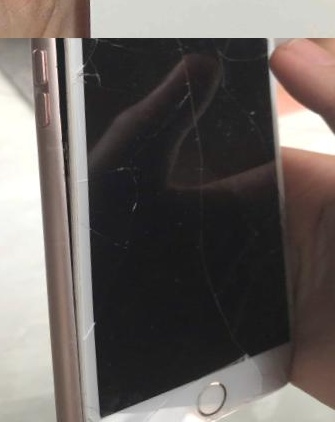physical_damage: (21, 38, 86, 195), (218, 345, 318, 415), (74, 150, 161, 230), (204, 92, 290, 152), (170, 104, 222, 189), (73, 38, 144, 94), (58, 293, 127, 350), (163, 38, 217, 109), (140, 382, 227, 422), (80, 402, 149, 422)
